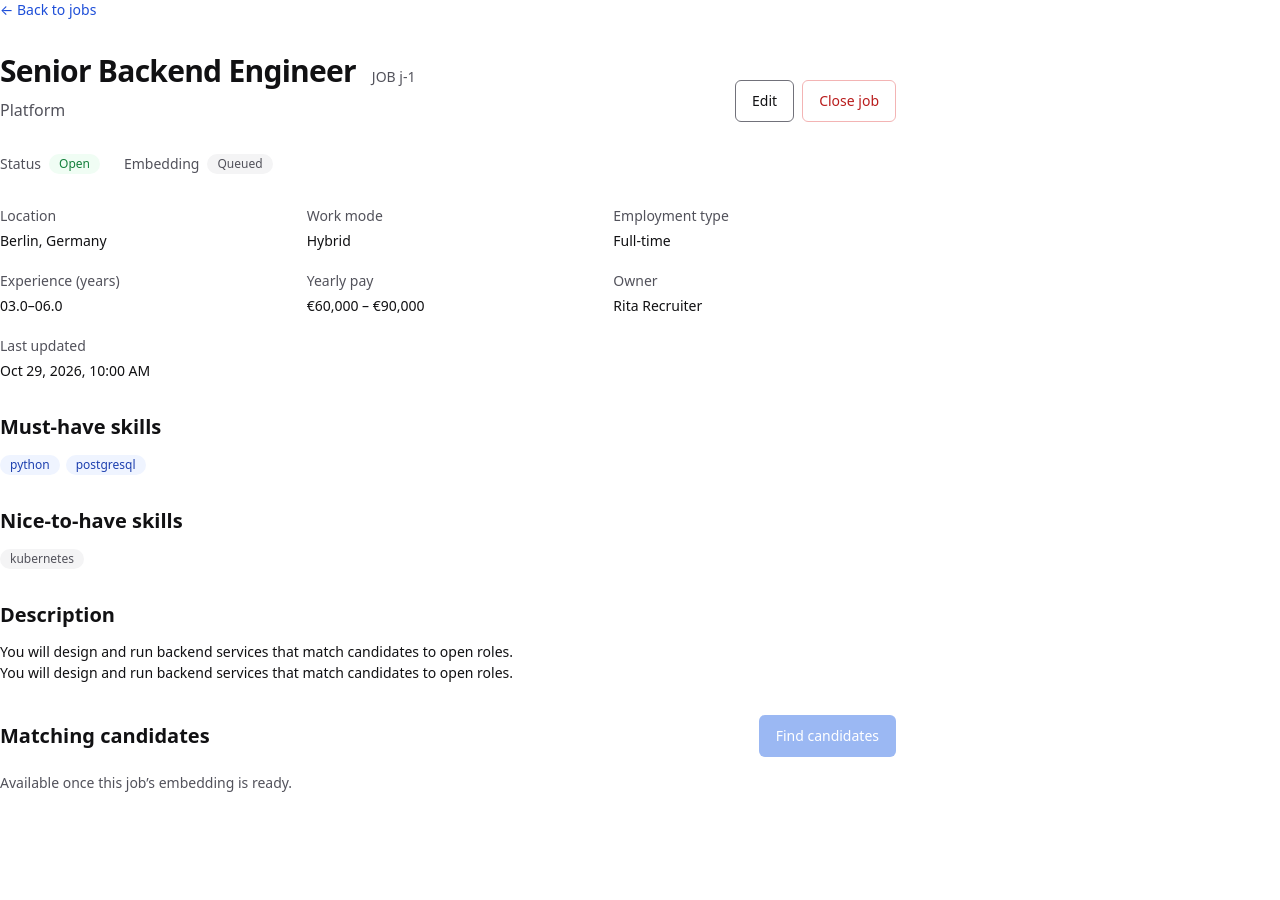
Test: JobDetailPage › closes a job after confirming, sending the loaded version
The width and height of the screenshot is (1280, 900).
Click the button "Close job". click: (849, 100)
box: [802,80,896,122]
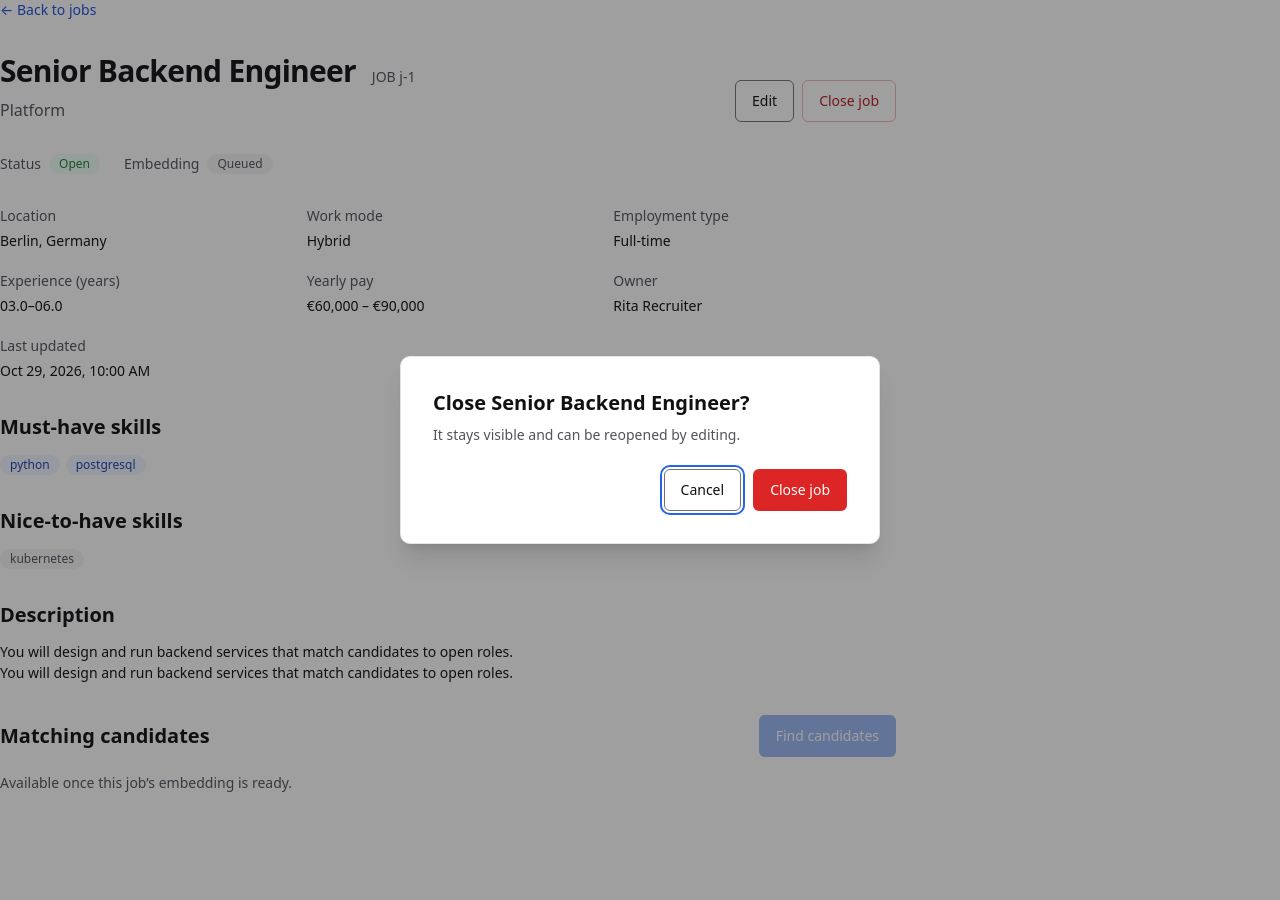
Click the button "Close job". click: (800, 490)
box: [753,469,847,511]
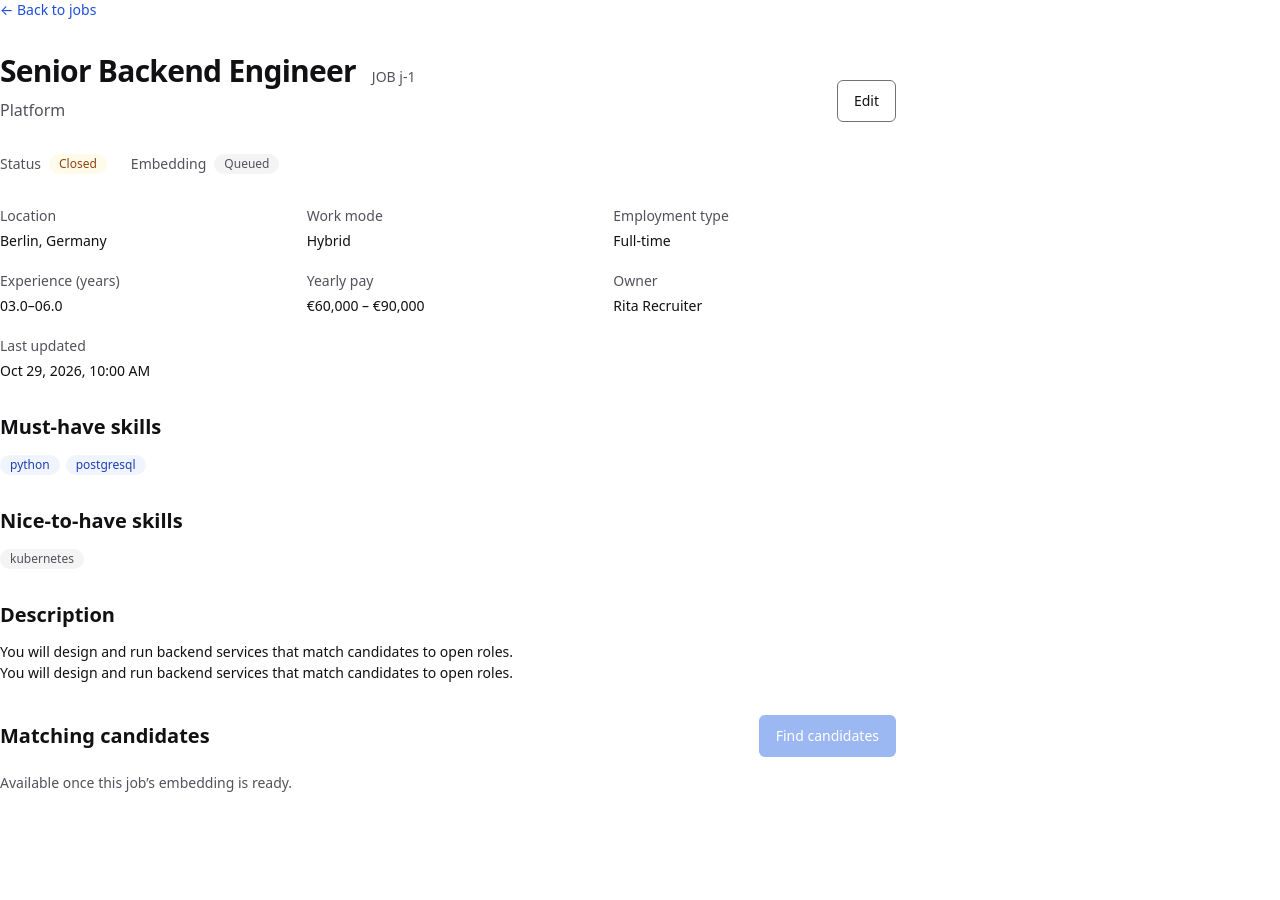
Expected: the text "Closed" is shown, [49,154,107,174]
Expected: the button "Close job" is gone
